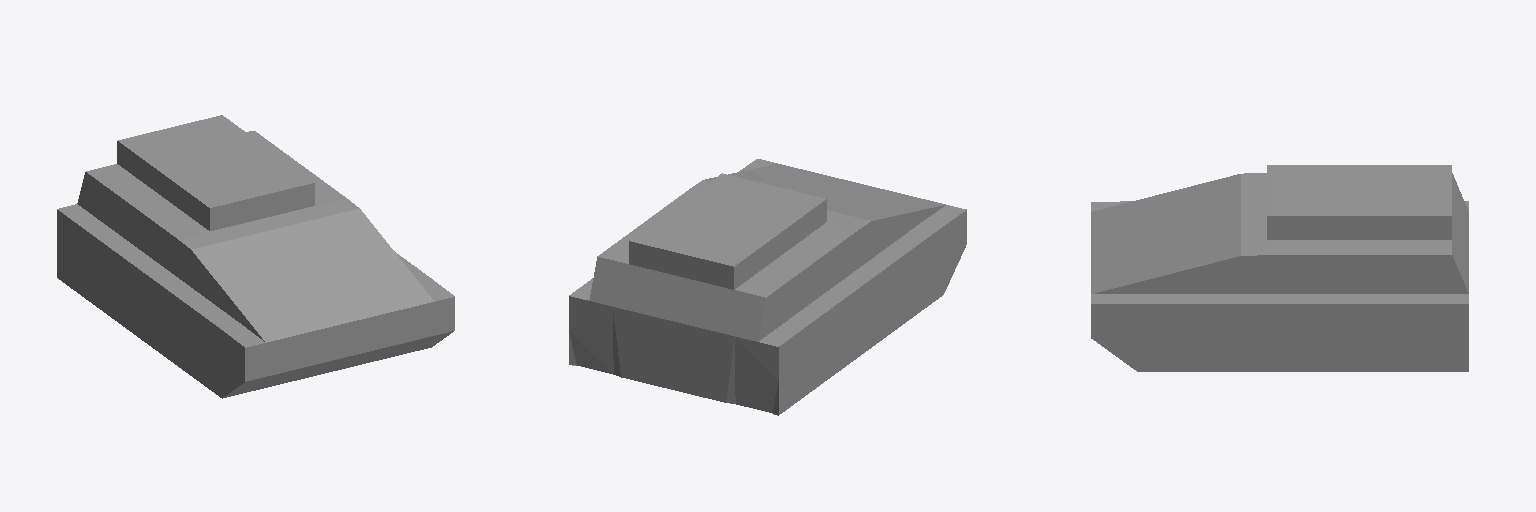
Rendered from Panzer.obj.
The picture shows the model from 3 angles: view 1: azimuth 30°, elevation 25°; view 2: azimuth 150°, elevation 25°; view 3: azimuth 270°, elevation 25°; orthographic projection.
Parts seen in each view (by area): view 1: Cube; view 2: Cube; view 3: Cube.
Boxes of the visible parts, <box> form: Cube: <box>57,115,454,398</box>; Cube: <box>569,159,966,415</box>; Cube: <box>1091,165,1468,371</box>.
Size of the model in its own units: 9.47 by 5.62 by 14.75.